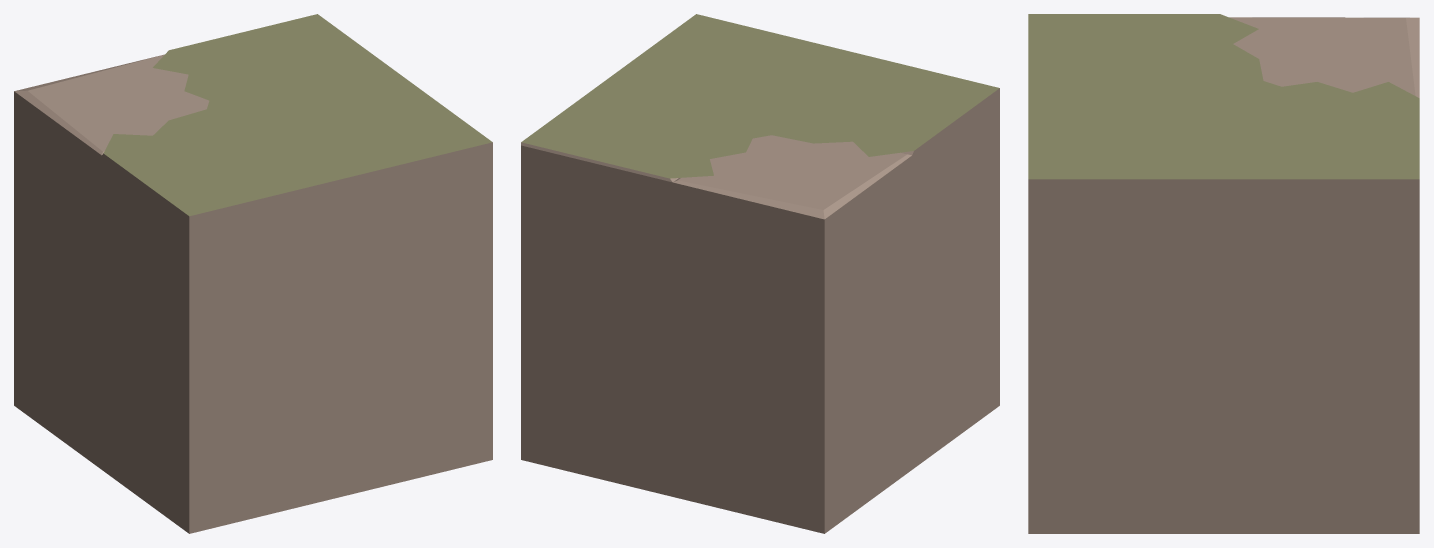
Rendered from Floor_1-3_Corner_Inner.fbx.
The picture shows the model from 3 angles, left to right: view 1: azimuth 30°, elevation 25°; view 2: azimuth 150°, elevation 25°; view 3: azimuth 270°, elevation 25°; orthographic projection. The views are drawn at different scales.
Visible parts, largest first — view 1: Floor_1-3_Corner_Inner; view 2: Floor_1-3_Corner_Inner; view 3: Floor_1-3_Corner_Inner.
Part boxes in pixels (bbox=[...]): Floor_1-3_Corner_Inner: bbox=[14, 14, 492, 533]; Floor_1-3_Corner_Inner: bbox=[521, 14, 999, 533]; Floor_1-3_Corner_Inner: bbox=[1028, 14, 1419, 533].
Size of the model in its own units: 1 by 1 by 1.
